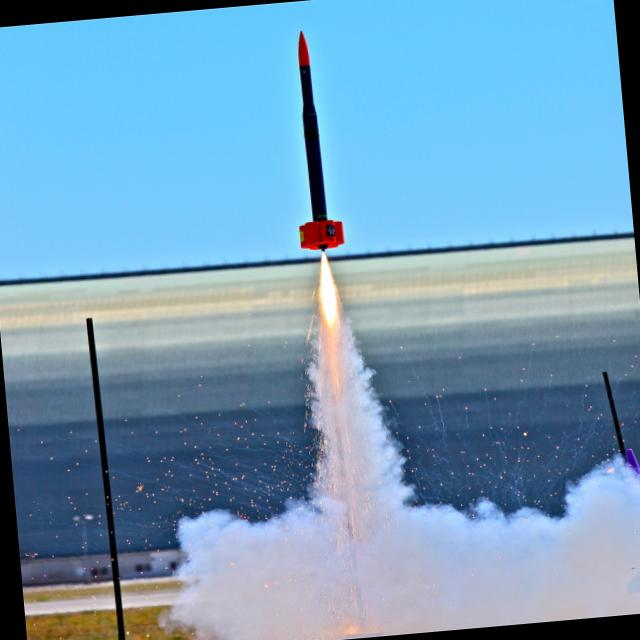rocket: (284, 29, 357, 356)
